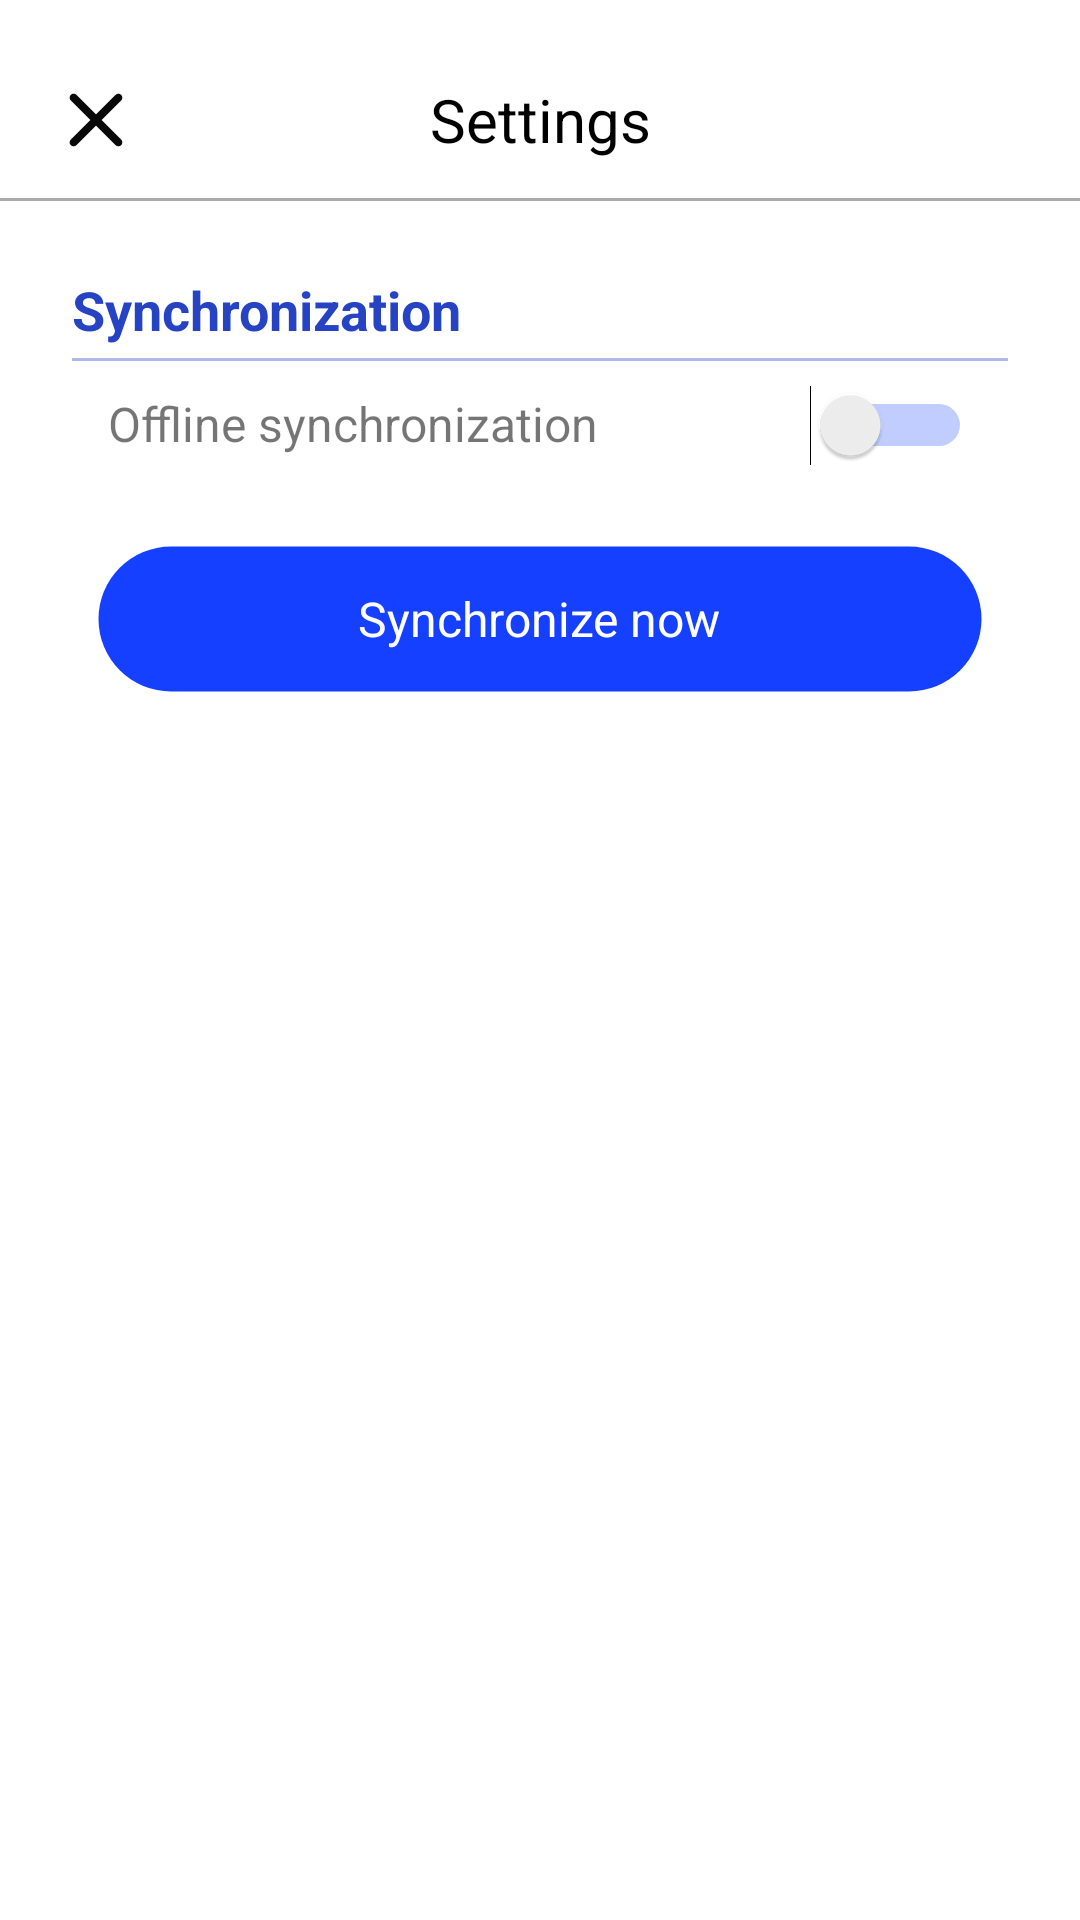

Icons on this 1080px×1920px Android screen, each with the point to tap as [x,y]:
close: [96,120]
